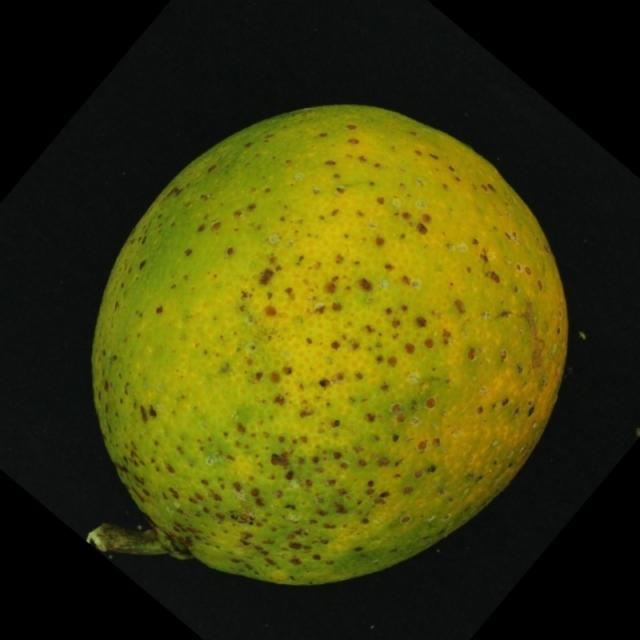grenning: (58, 84, 586, 602)
